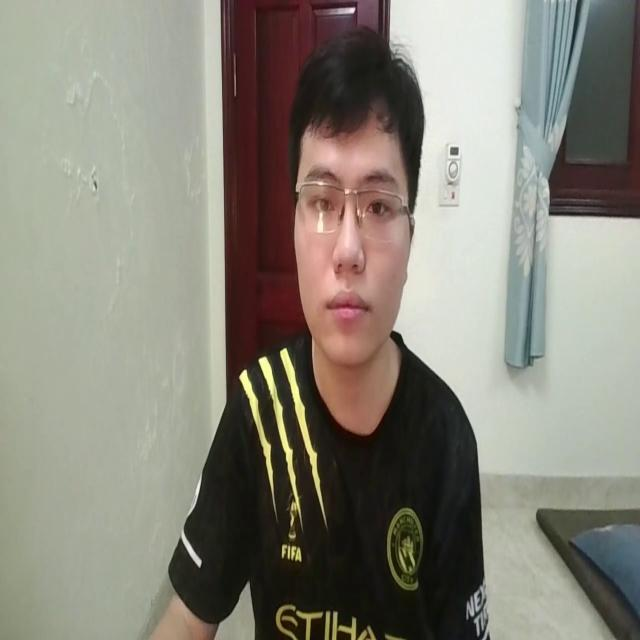student: (153, 24, 487, 640)
